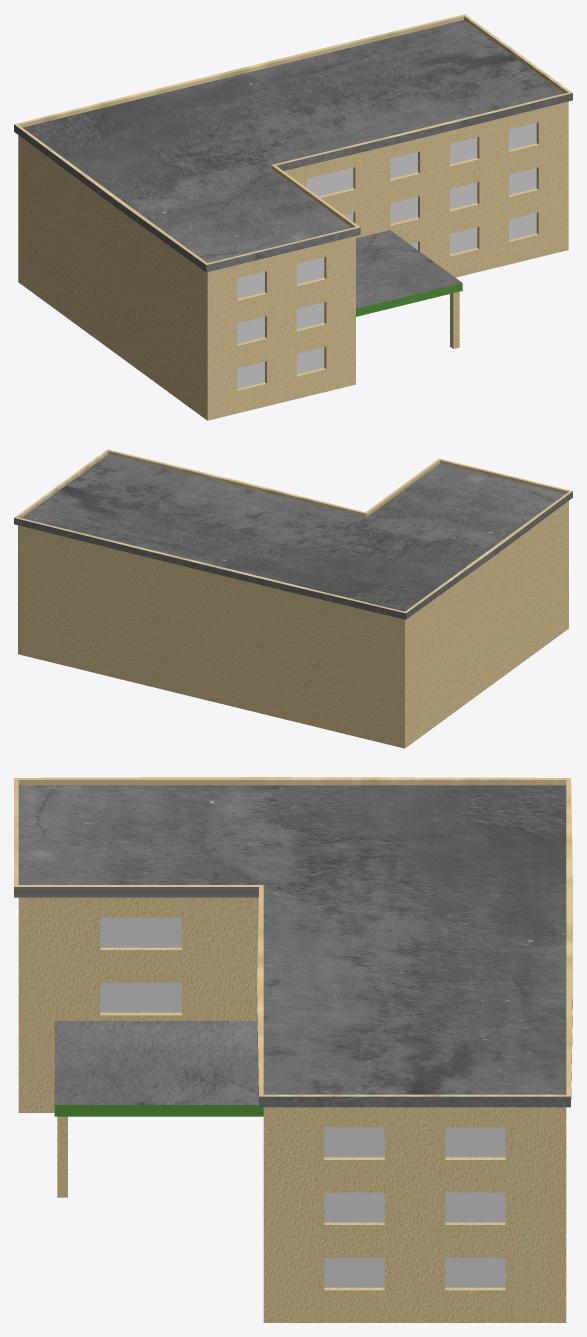
The model's file is HOSPITAL.fbx.
3 views of the same model, one above another, from view 1: azimuth 30°, elevation 25°; view 2: azimuth 150°, elevation 25°; view 3: azimuth 270°, elevation 25° (orthographic). The views are drawn at different scales.
Parts seen in each view (by area): view 1: HOSPITAL; view 2: HOSPITAL; view 3: HOSPITAL.
Part boxes in pixels (x1=…): HOSPITAL: x1=14, y1=14, x2=572, y2=420; HOSPITAL: x1=14, y1=449, x2=572, y2=748; HOSPITAL: x1=14, y1=777, x2=572, y2=1322.
Bounding box in the file's own units: 3134 × 1052 × 2316.
